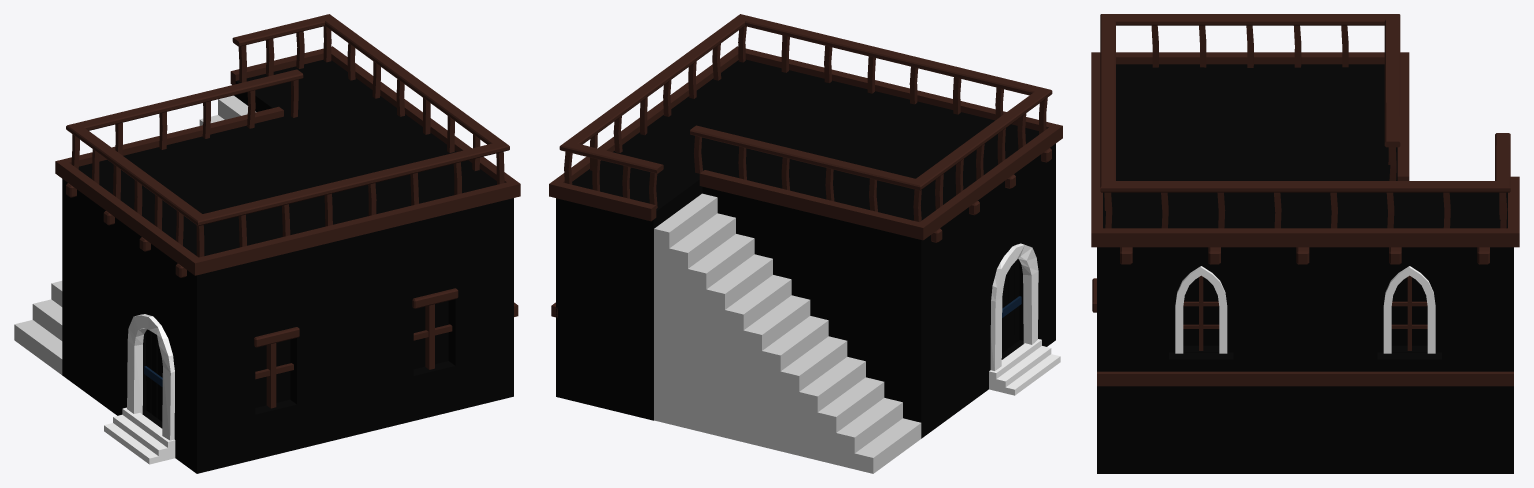
The model's file is civilian_house_31_d.FBX.
3 views of the same model, side by side, from view 1: azimuth 30°, elevation 25°; view 2: azimuth 150°, elevation 25°; view 3: azimuth 270°, elevation 25° (orthographic). The views are drawn at different scales.
Parts seen in each view (by area): view 1: civilian_house_31_d; view 2: civilian_house_31_d; view 3: civilian_house_31_d.
Part boxes in pixels (left/top/right/bottom): civilian_house_31_d: left=14, top=14, right=520, bottom=473; civilian_house_31_d: left=549, top=14, right=1062, bottom=473; civilian_house_31_d: left=1091, top=14, right=1519, bottom=473.
Size of the model in its own units: 899 by 605 by 822.
